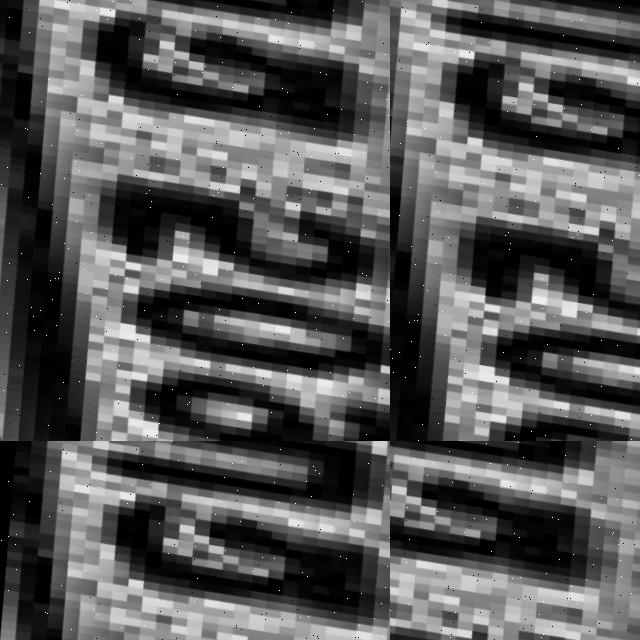license-plate: (0, 441, 390, 640), (390, 441, 640, 640)
